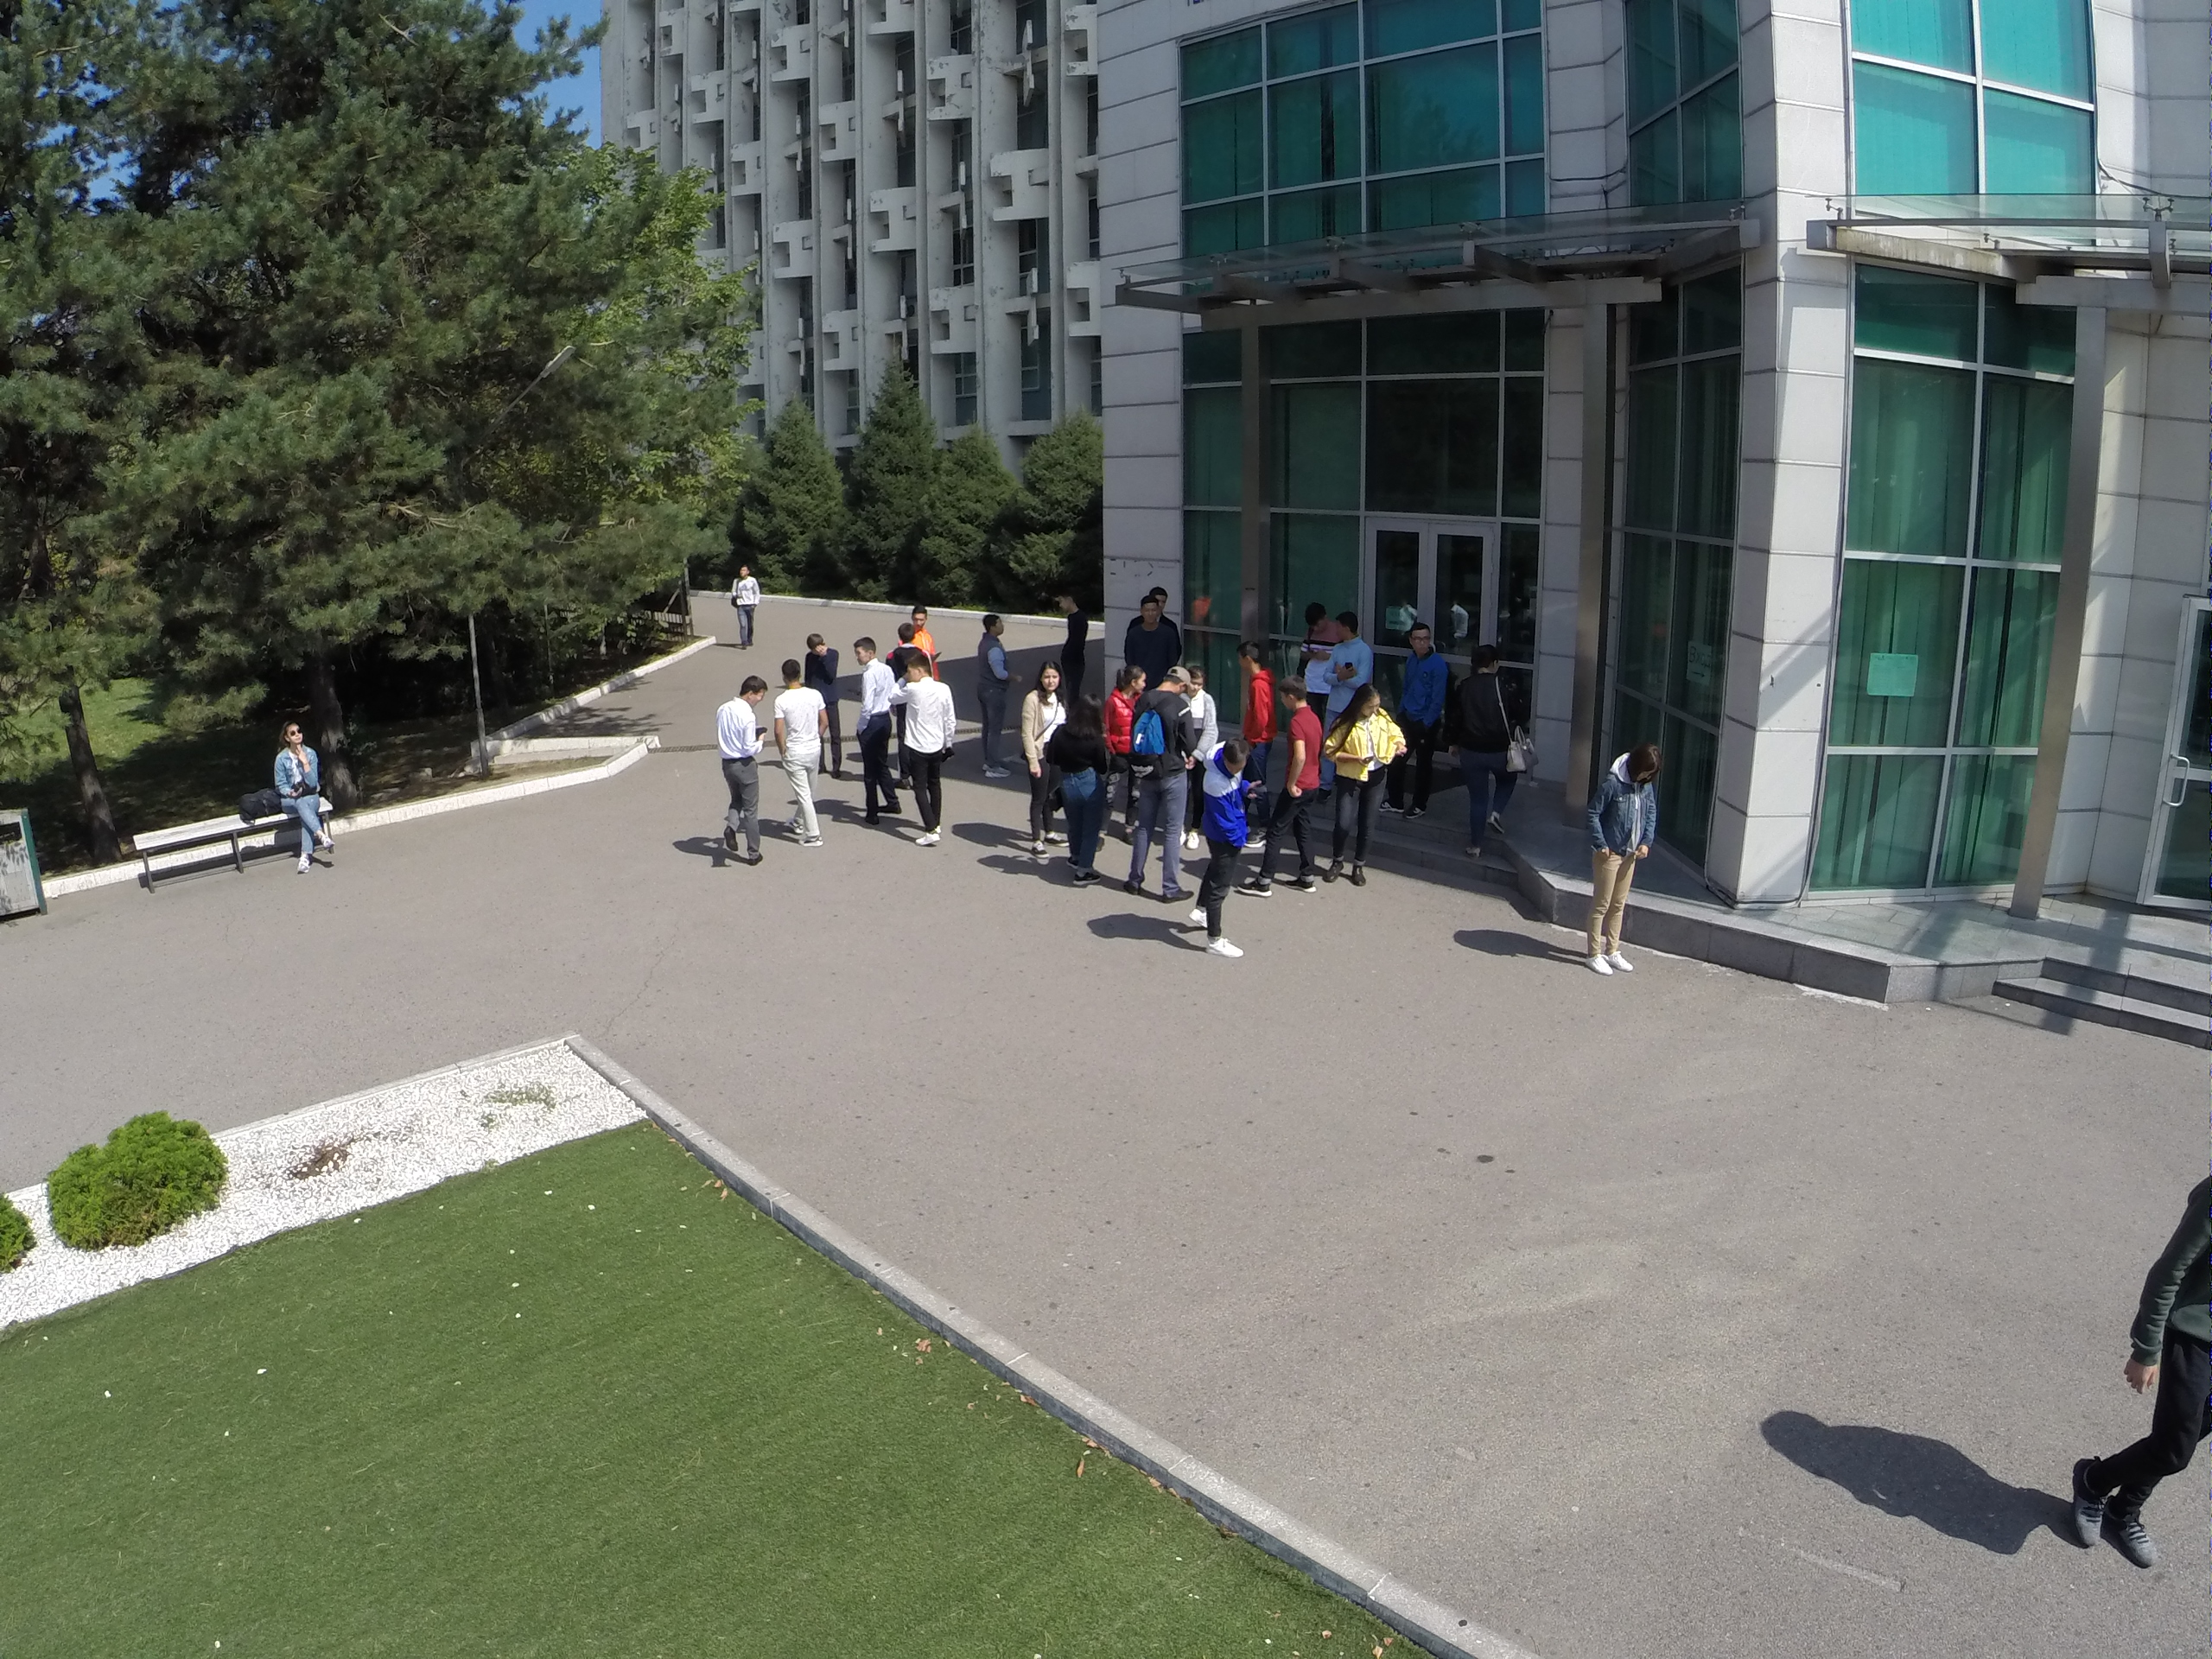person: (1567, 735, 1669, 985), (1455, 639, 1538, 868), (1117, 665, 1193, 905), (1190, 734, 1256, 963), (1329, 687, 1402, 892), (1383, 620, 1453, 815), (1266, 675, 1323, 900), (715, 671, 770, 868), (272, 715, 335, 878), (1065, 684, 1113, 890), (902, 649, 951, 853), (848, 635, 897, 827), (775, 656, 822, 850), (1026, 659, 1067, 869), (976, 607, 1014, 791), (803, 631, 850, 776), (1233, 644, 1278, 753), (1330, 611, 1377, 700), (1125, 595, 1176, 677), (1112, 661, 1150, 764), (1294, 601, 1332, 700), (1052, 590, 1091, 664), (1183, 664, 1215, 749), (729, 562, 759, 654)
